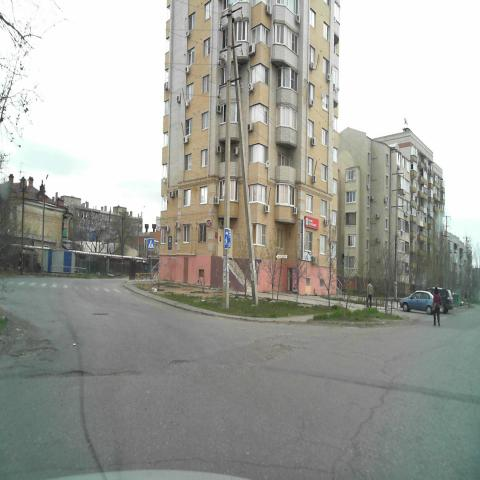5_21: (224, 227, 231, 251)
